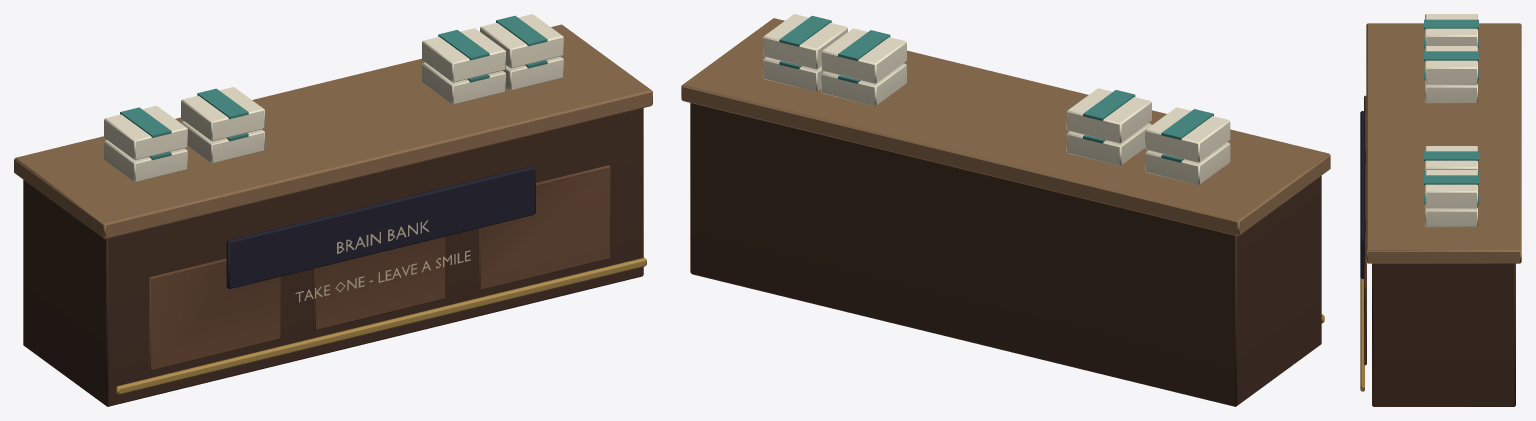
File: counter_pantry.glb
The picture shows the model from 3 angles, left to right: view 1: azimuth 30°, elevation 25°; view 2: azimuth 150°, elevation 25°; view 3: azimuth 270°, elevation 25°; orthographic projection. The views are drawn at different scales.
Visible parts, largest first — view 1: counter_pantry; view 2: counter_pantry; view 3: counter_pantry.
Boxes of the visible parts, x1=… form: counter_pantry: x1=14, y1=14, x2=652, y2=406; counter_pantry: x1=681, y1=14, x2=1330, y2=406; counter_pantry: x1=1360, y1=14, x2=1521, y2=406.
Size of the model in its own units: 2.85 by 1.15 by 0.857.
